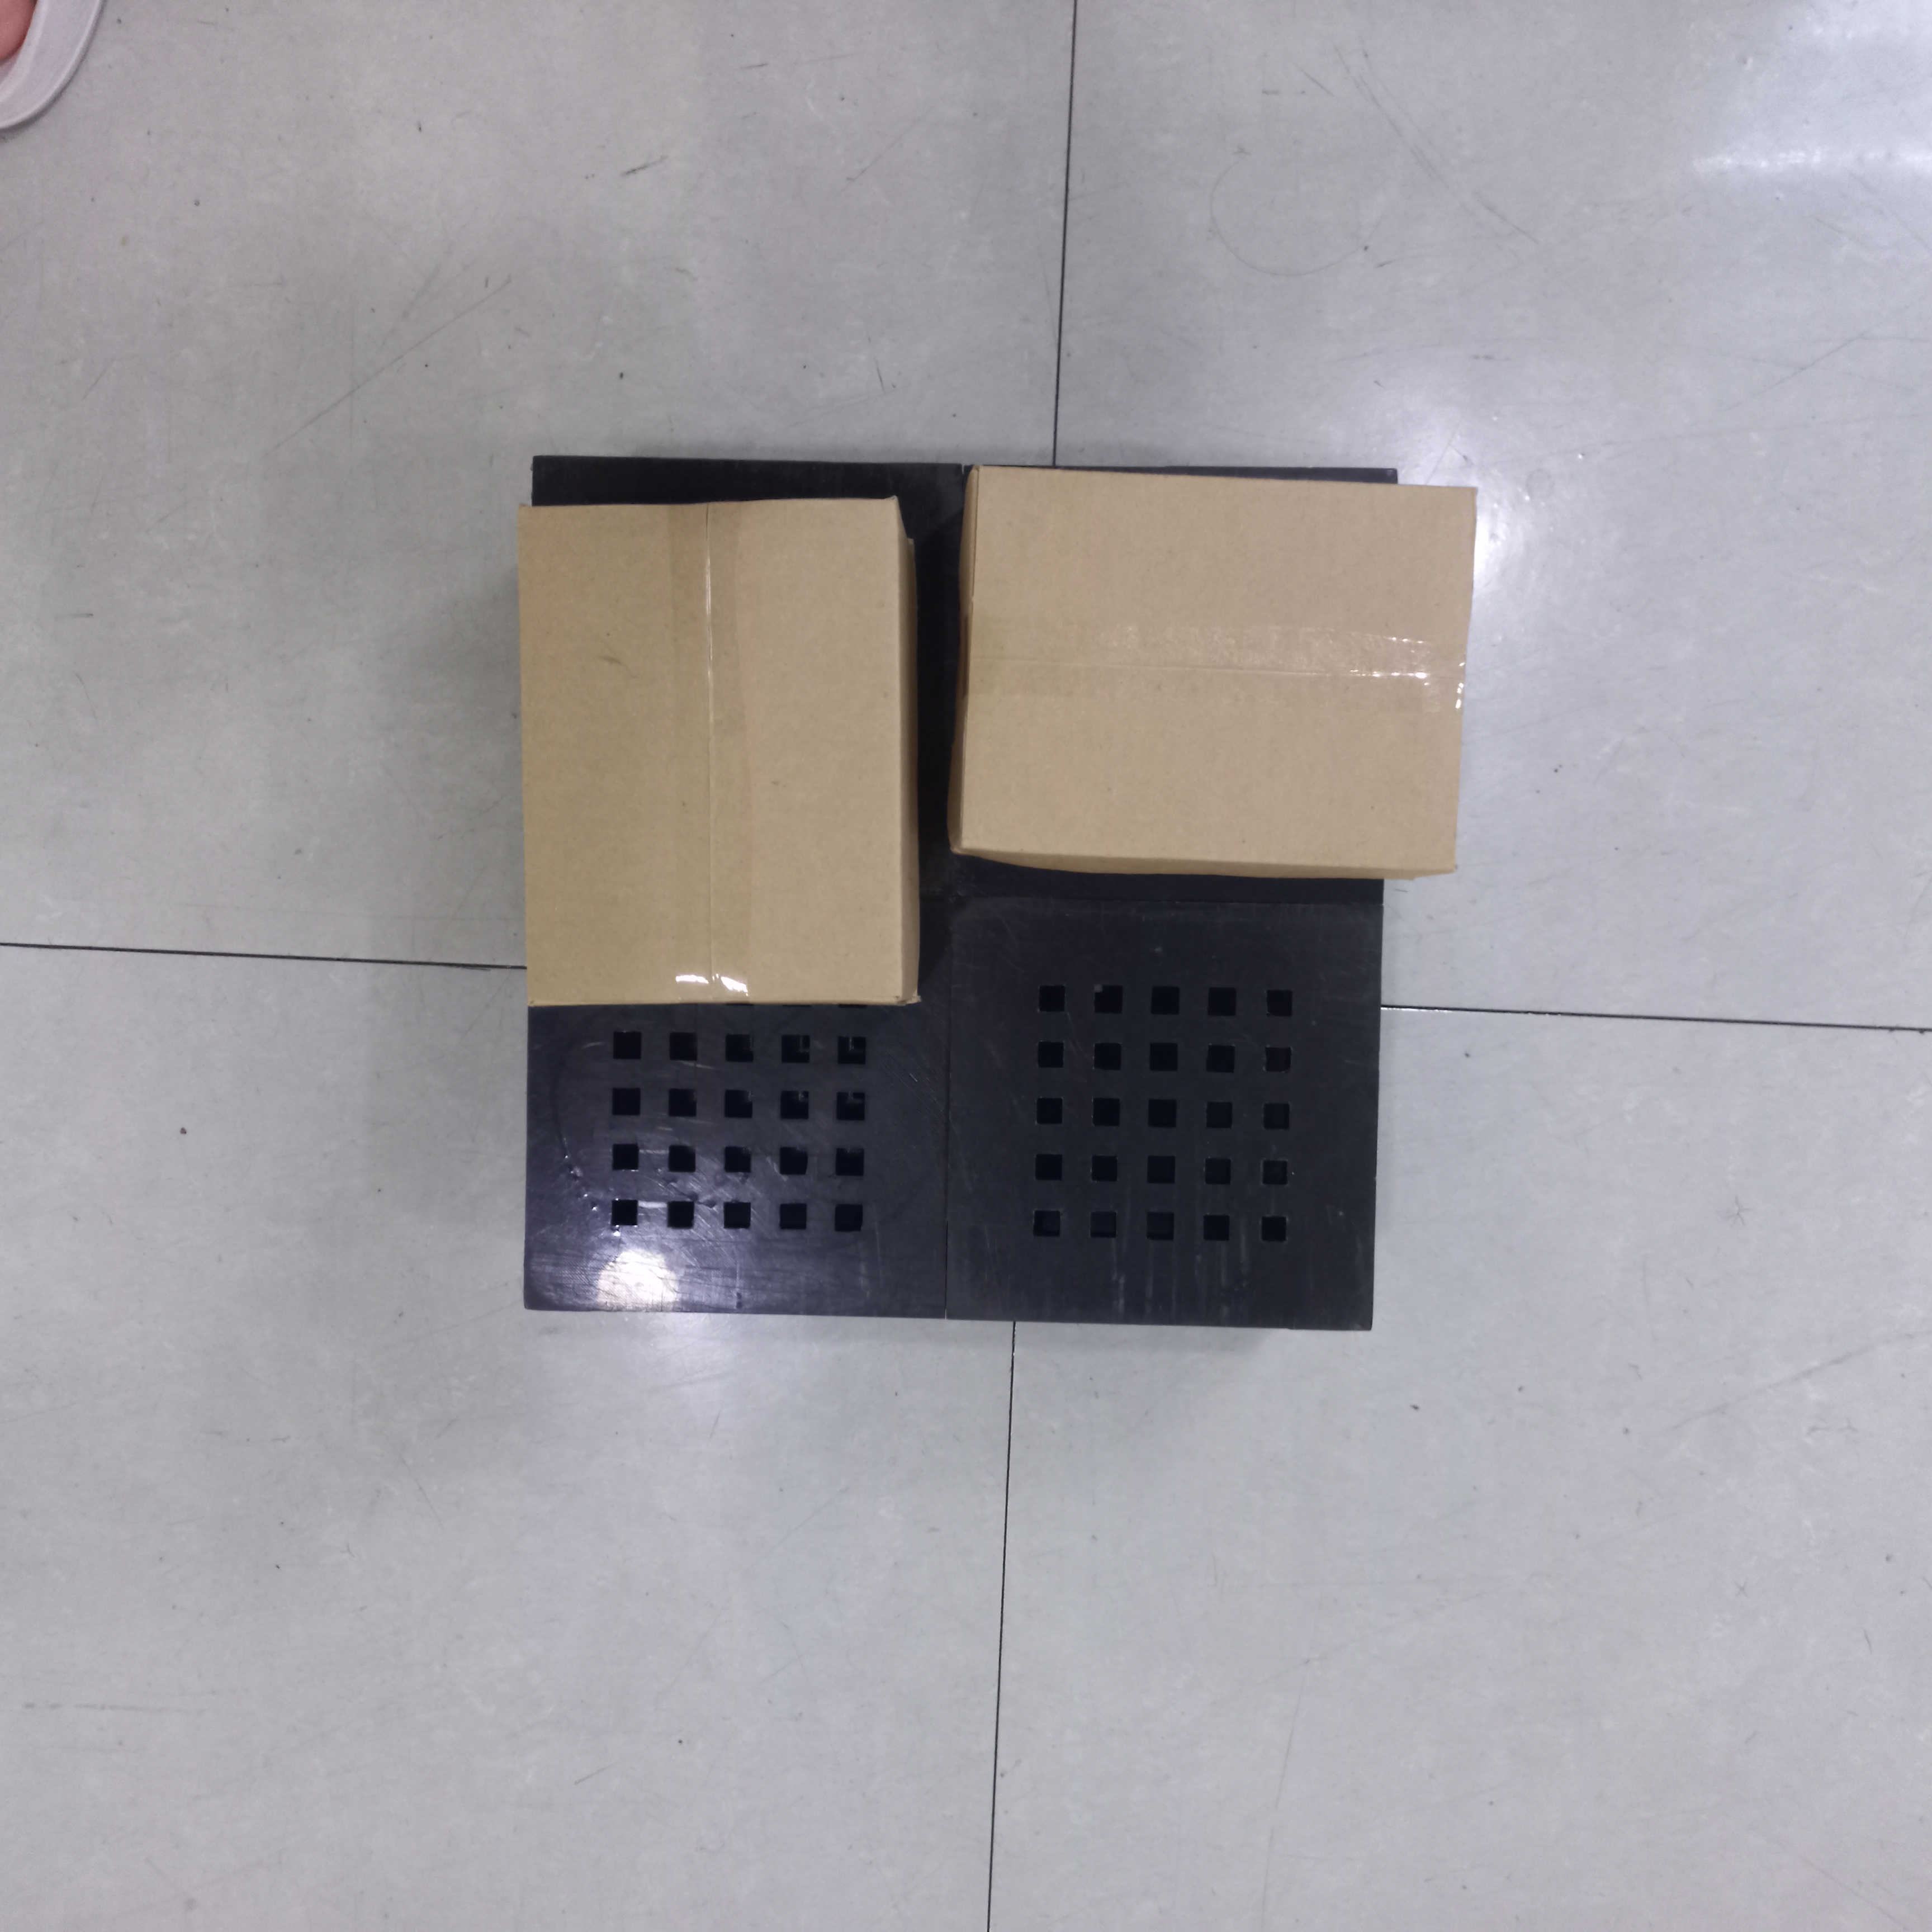box: (947, 455, 1484, 885), (510, 487, 927, 1017)
